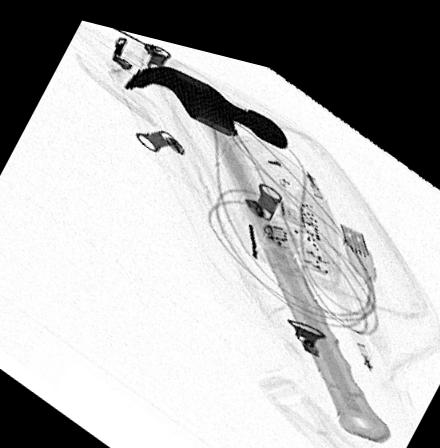Hammer: (124, 57, 393, 425)
